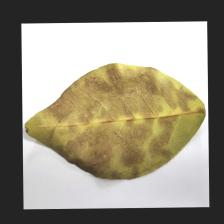black spot: (67, 85, 189, 154)
